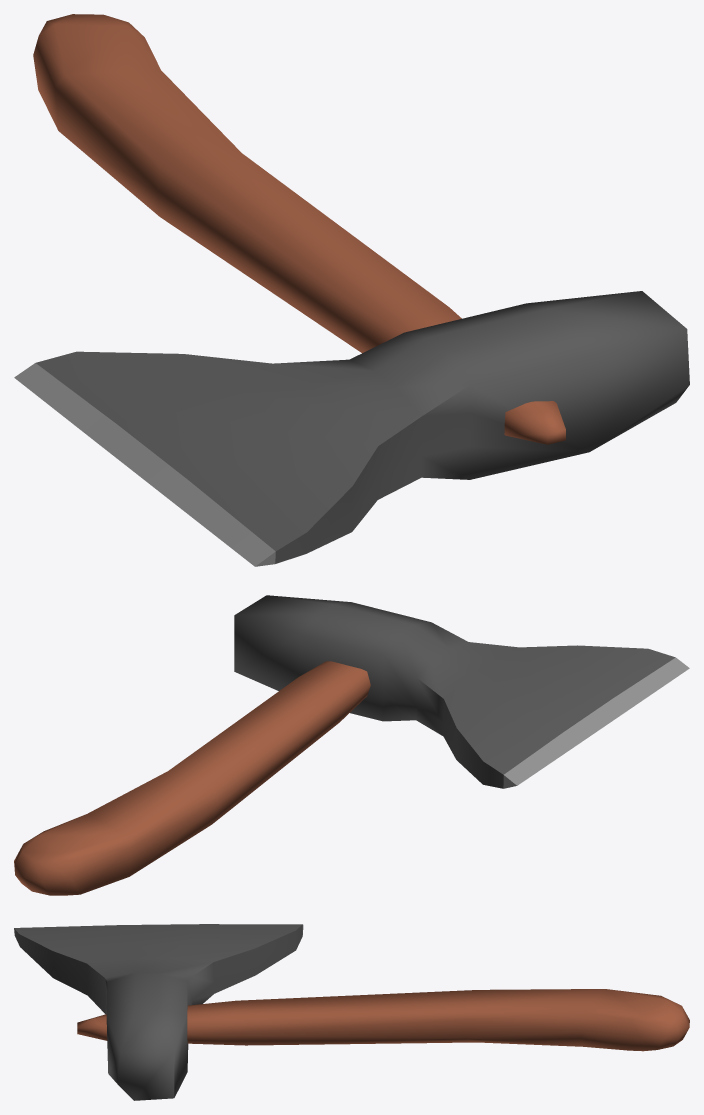
The model's file is Axe.fbx.
3 renders of one model, top to bottom at view 1: azimuth 30°, elevation 25°; view 2: azimuth 150°, elevation 25°; view 3: azimuth 270°, elevation 25°, orthographic. The views are drawn at different scales.
Visible parts, largest first — view 1: Axe; view 2: Axe; view 3: Axe.
Boxes of the visible parts, x1=… form: Axe: x1=14, y1=14, x2=689, y2=566; Axe: x1=14, y1=595, x2=689, y2=895; Axe: x1=14, y1=924, x2=689, y2=1100.
Size of the model in its own units: 148 by 33.06 by 281.
